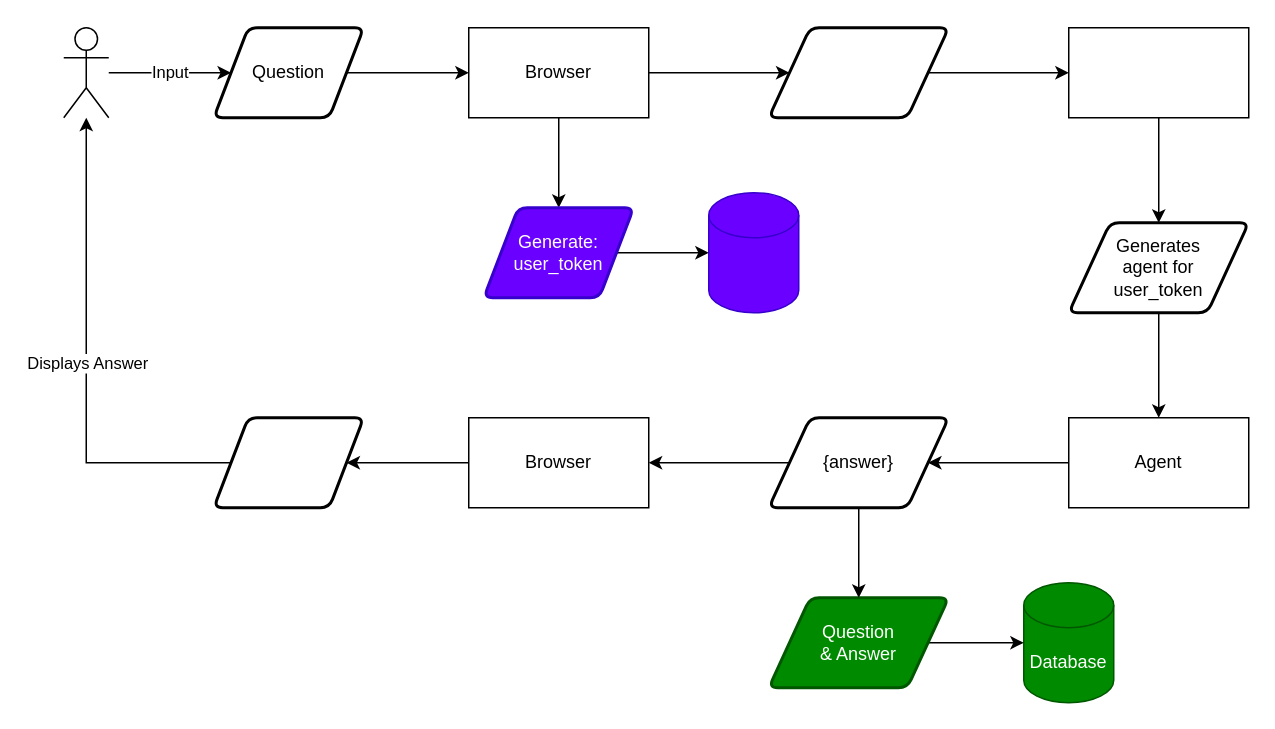
Image size: 1275x729. Some labels were removed from this diagram. Here are the shapes that lost their labels. From the top down, the box of each, then its label:
(766, 26, 950, 118): {question, user_token}
(1067, 26, 1249, 118): API /ask
(707, 191, 799, 313): Local Storage
(212, 416, 364, 508): Answer
